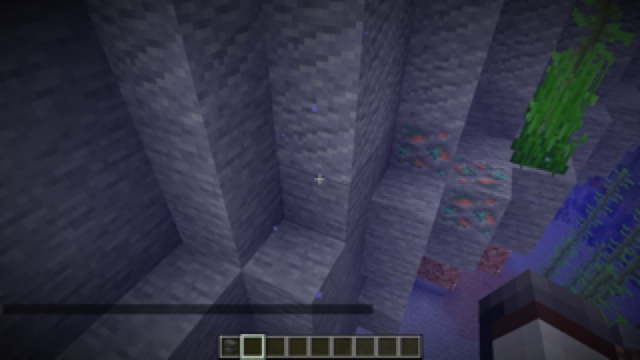copper: (393, 119, 512, 246)
